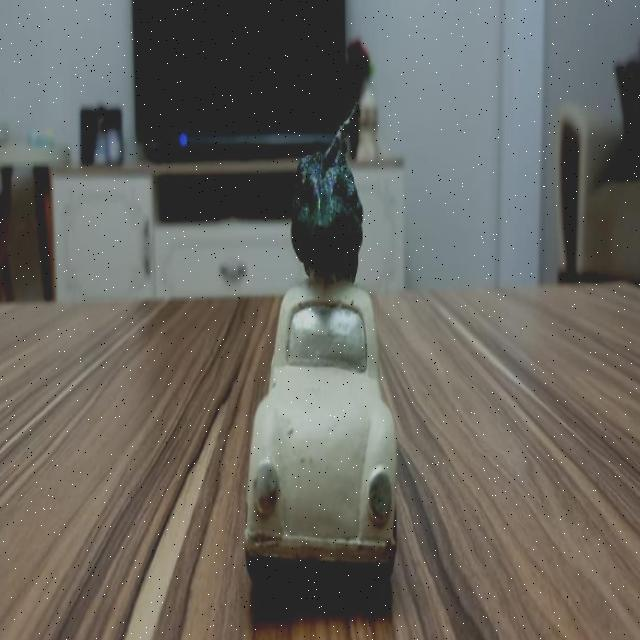car: (251, 286, 398, 592)
